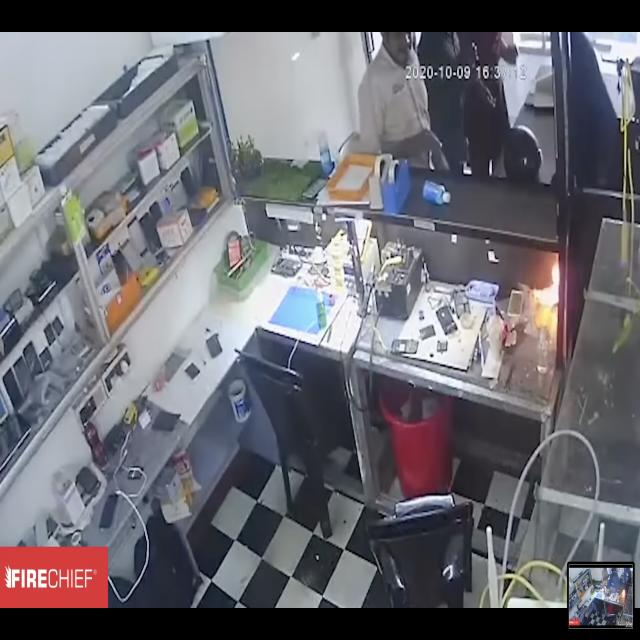Fogo: (513, 230, 587, 347)
